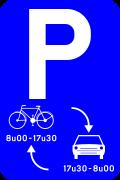Parking Lot Cars: (7, 9, 102, 100), (69, 105, 115, 164)
